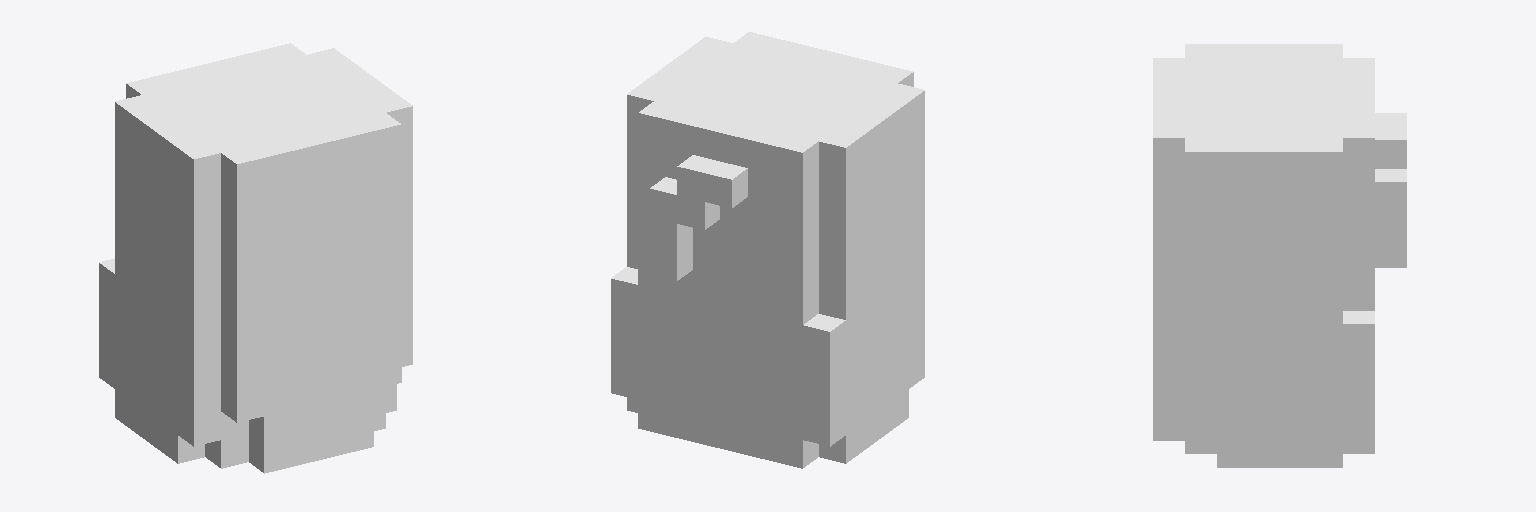
File: anim_player_snowman_body.obj
3 views of the same model, side by side, from view 1: azimuth 30°, elevation 25°; view 2: azimuth 150°, elevation 25°; view 3: azimuth 270°, elevation 25° (orthographic).
Parts seen in each view (by area): view 1: object 1; view 2: object 1; view 3: object 1.
Part boxes in pixels (x1,y1,x2,y2): object 1: (99, 43, 412, 473); object 1: (611, 32, 924, 468); object 1: (1153, 44, 1406, 467).
Bounding box in the file's own units: 0.8 × 1.1 × 0.8.